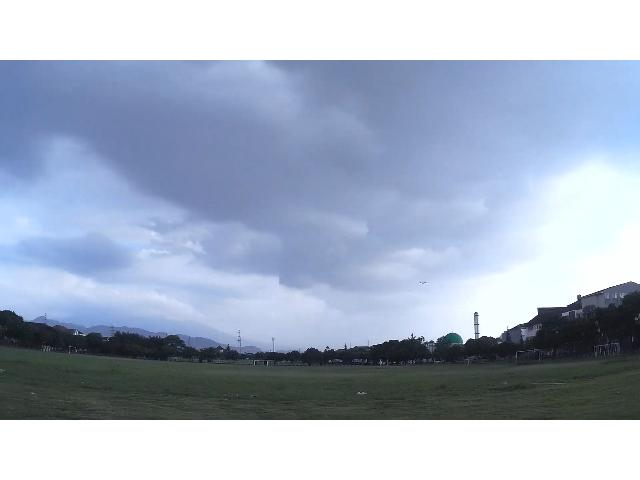Anti-Drone: (410, 272, 436, 292)
